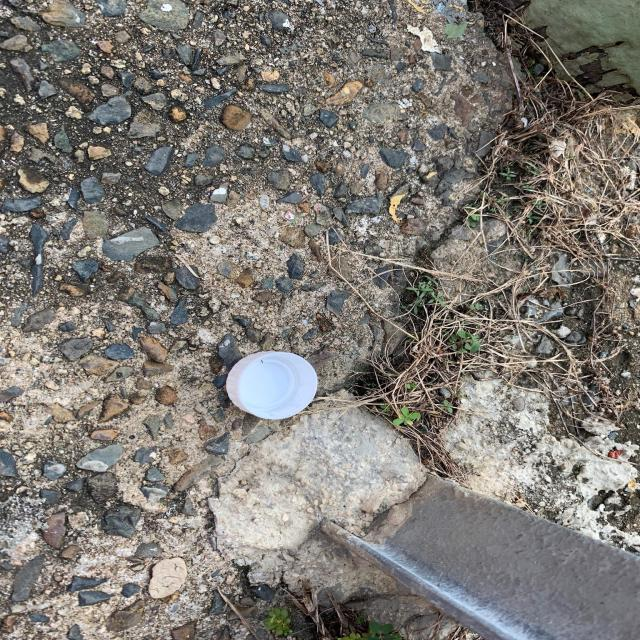litter: (219, 347, 321, 425)
